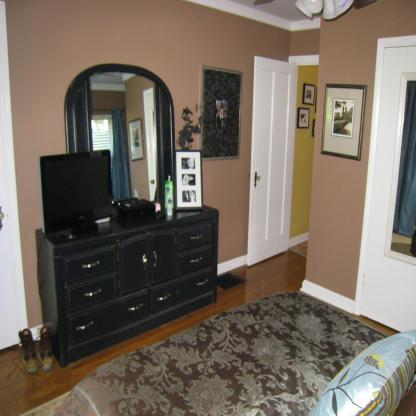door: (360, 29, 415, 326), (0, 0, 31, 353), (247, 53, 292, 267)
knob: (0, 211, 5, 221), (256, 174, 262, 182)
